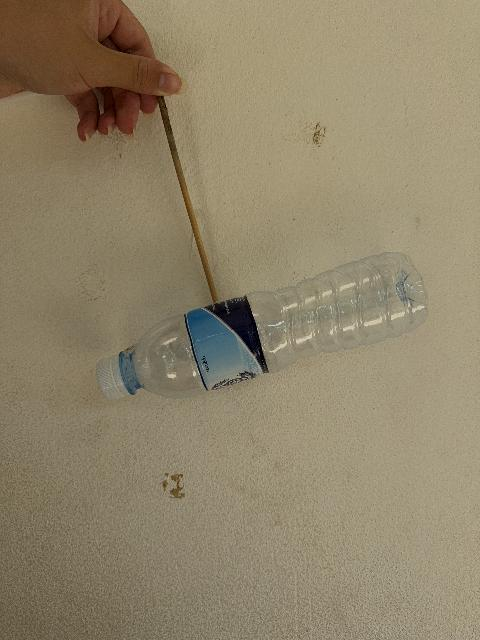bottle: (96, 253, 426, 398)
